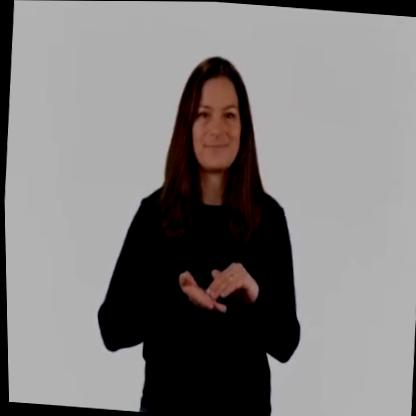ExcuseMe: (167, 242, 263, 338)
